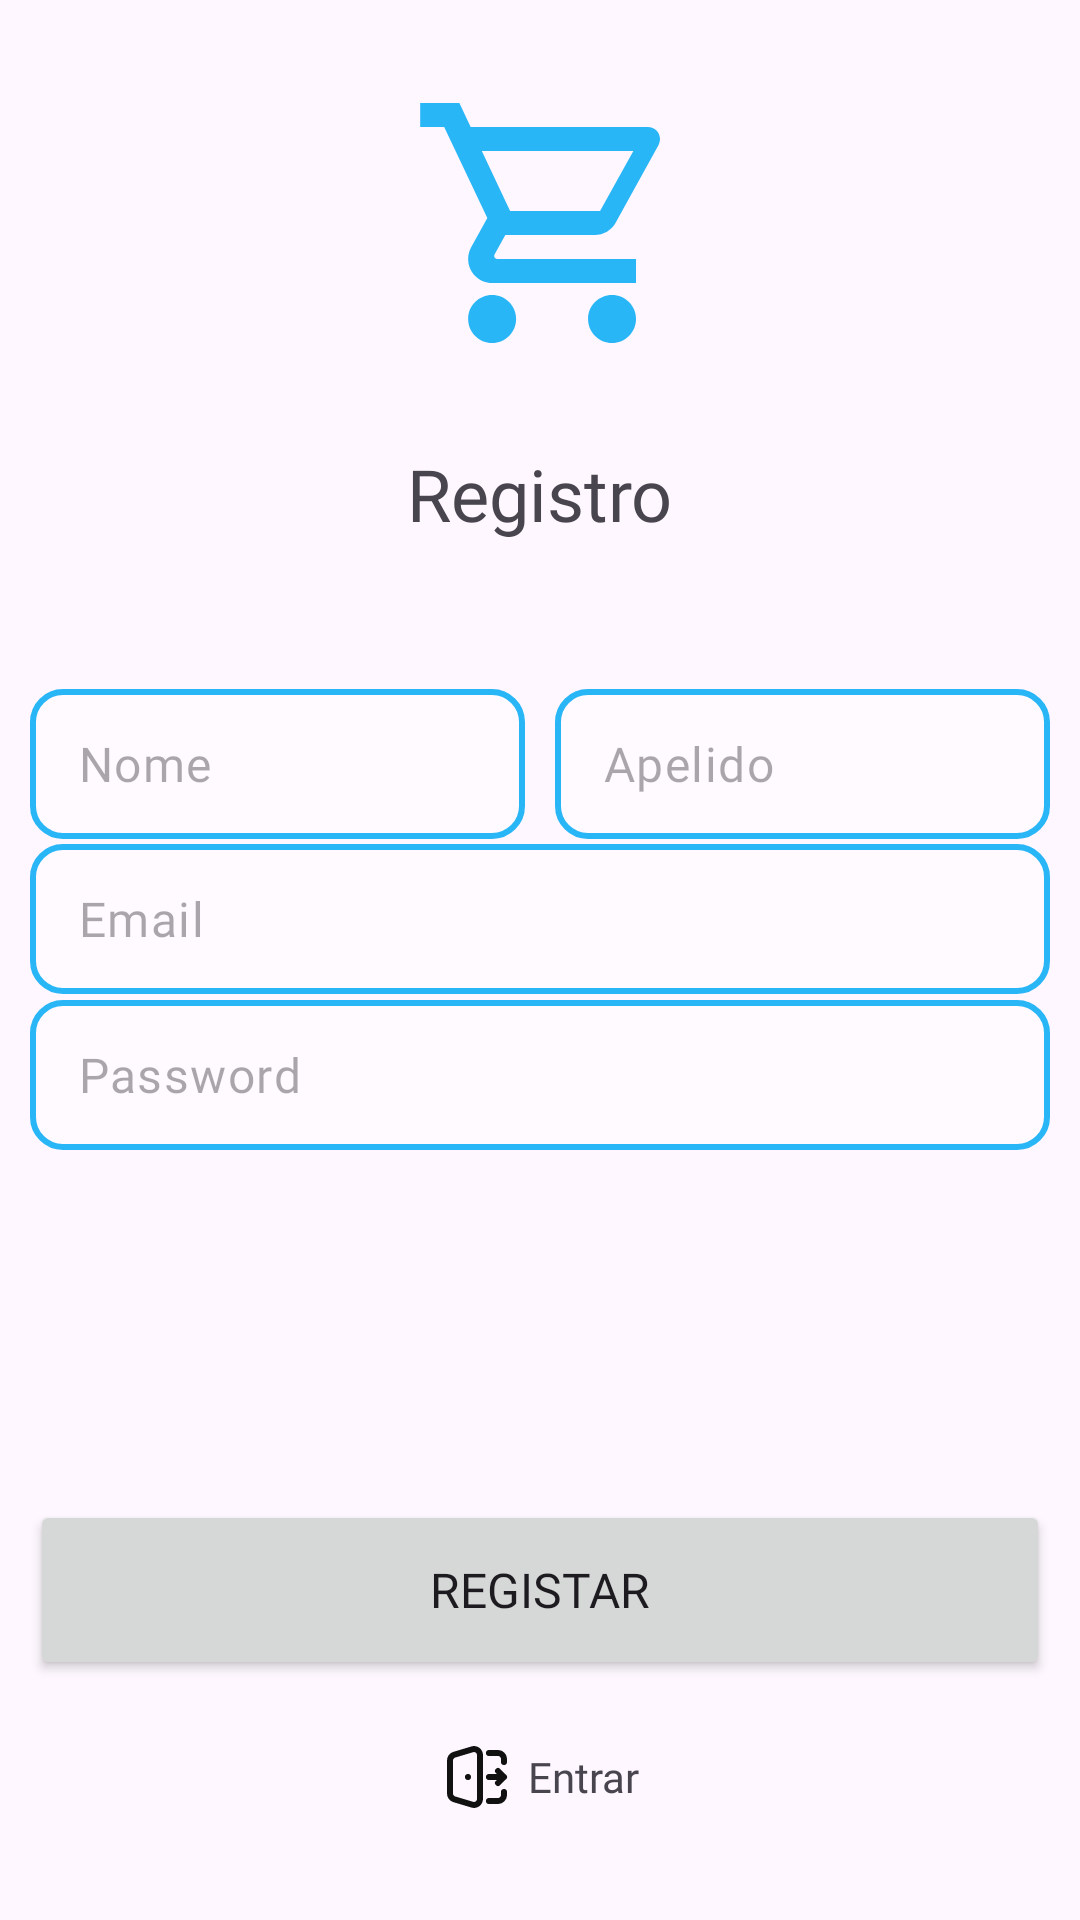

Named icons in this screenshot (1080×1920) and their centers, (x=x, y=y):
majesticons door exit line: (x=477, y=1777)
